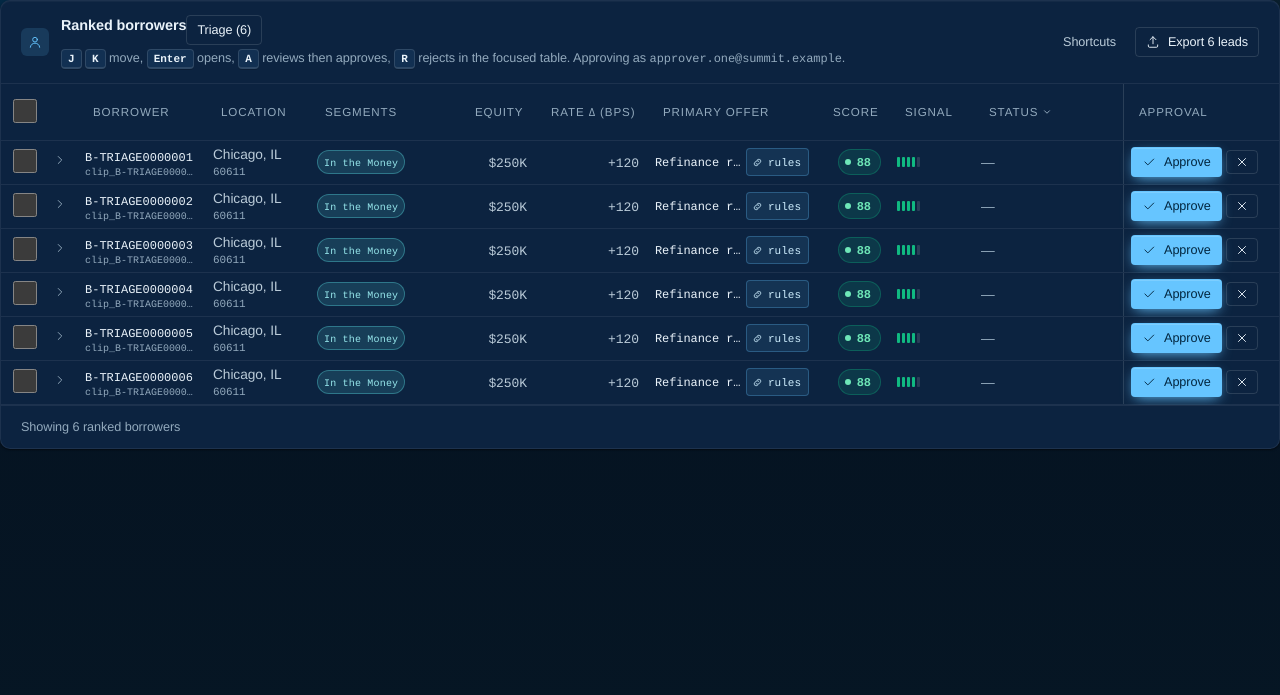
Test case: Triage deck › stays on the card when the approve fails
The image size is (1280, 695).
Click the button with test id "lead-triage-enter": (224, 30) [186, 15, 262, 45]
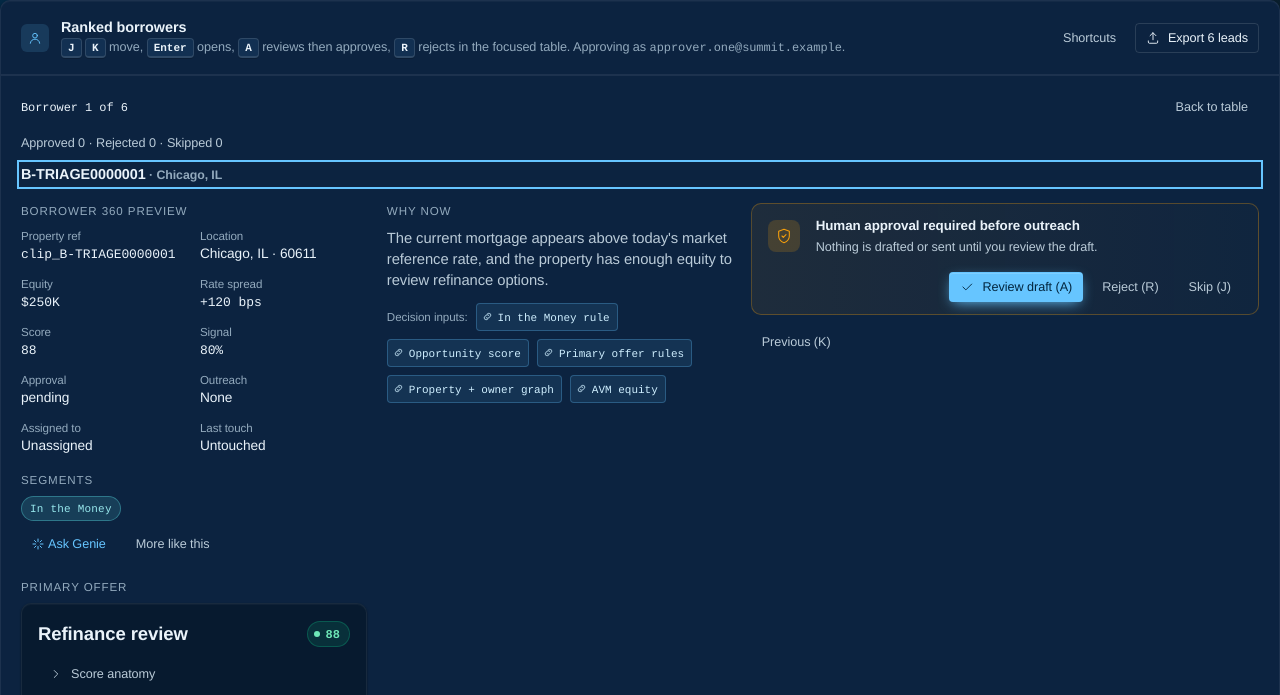
Press a in the heading "B-TRIAGE0000001 · Chicago, IL", box [21, 165, 222, 183]
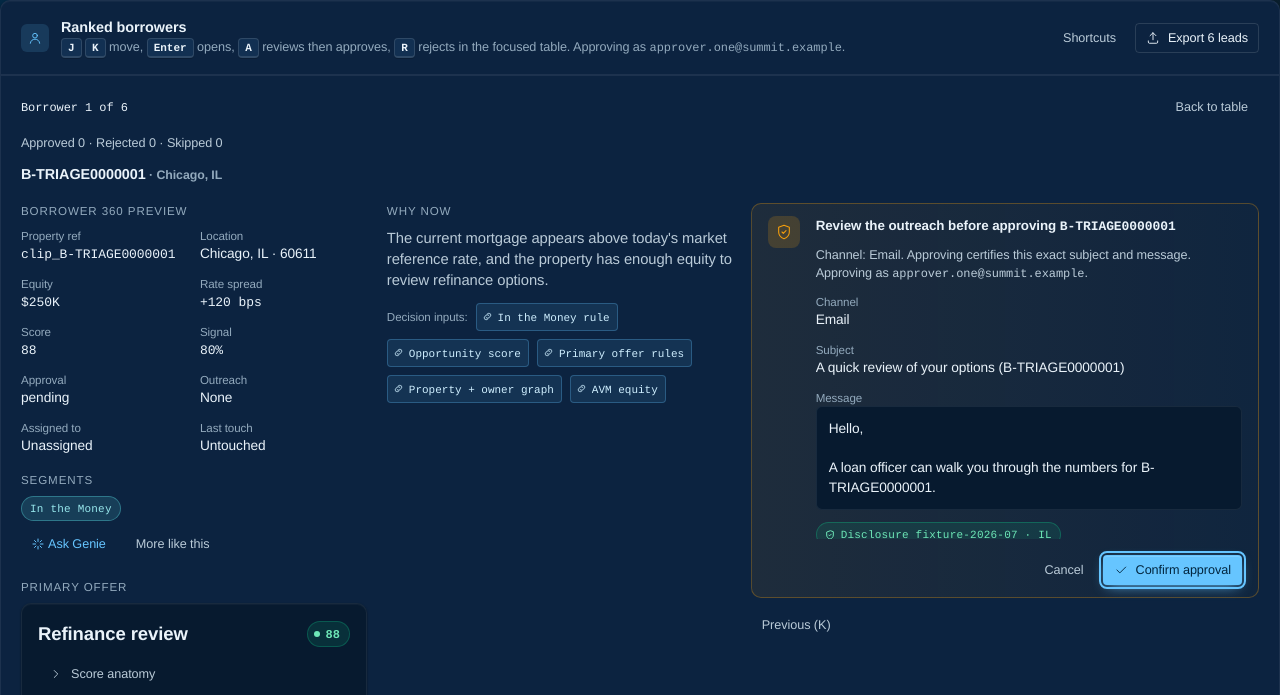
Press Enter in the button with test id "lead-approve-review-confirm", box [1103, 555, 1242, 585]
Click the button with test id "lead-approve-review-confirm": (1172, 570) [1103, 555, 1242, 585]
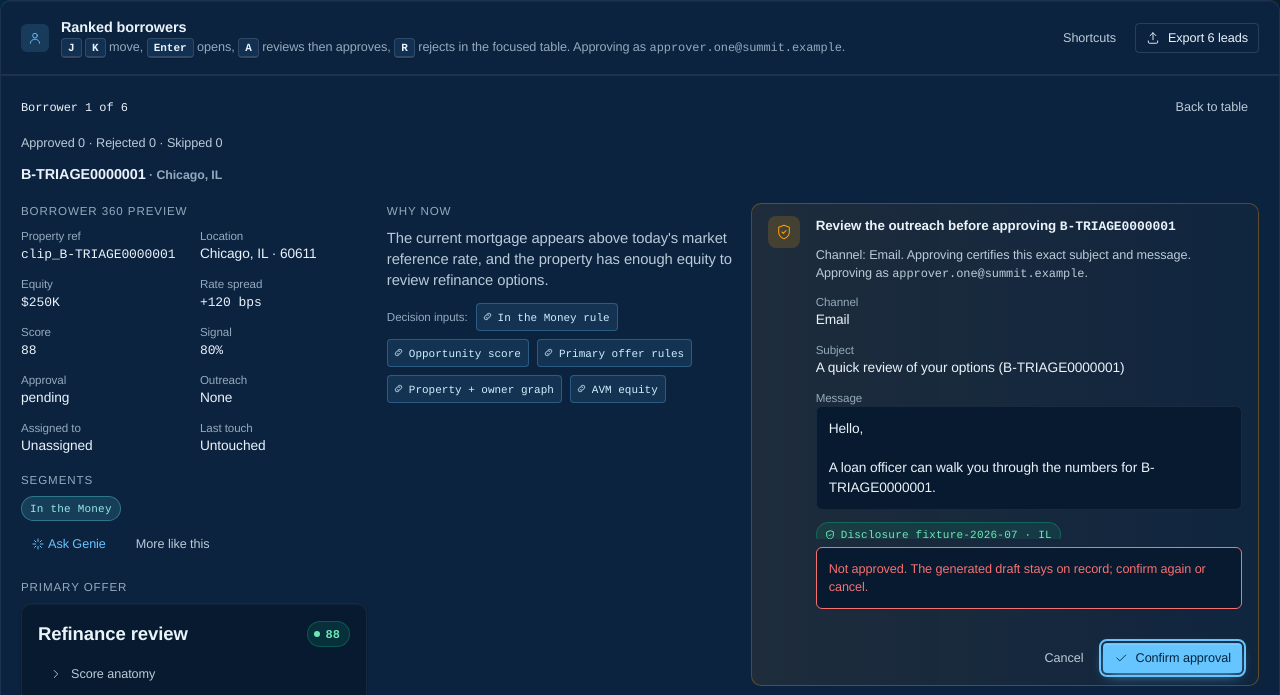
Expected: the text with test id "triage-position" reads "Borrower 1 of 6", [21, 99, 128, 115]
Expected: the form with test id "lead-approve-review" shows "Not approved.", [829, 561, 1206, 595]
